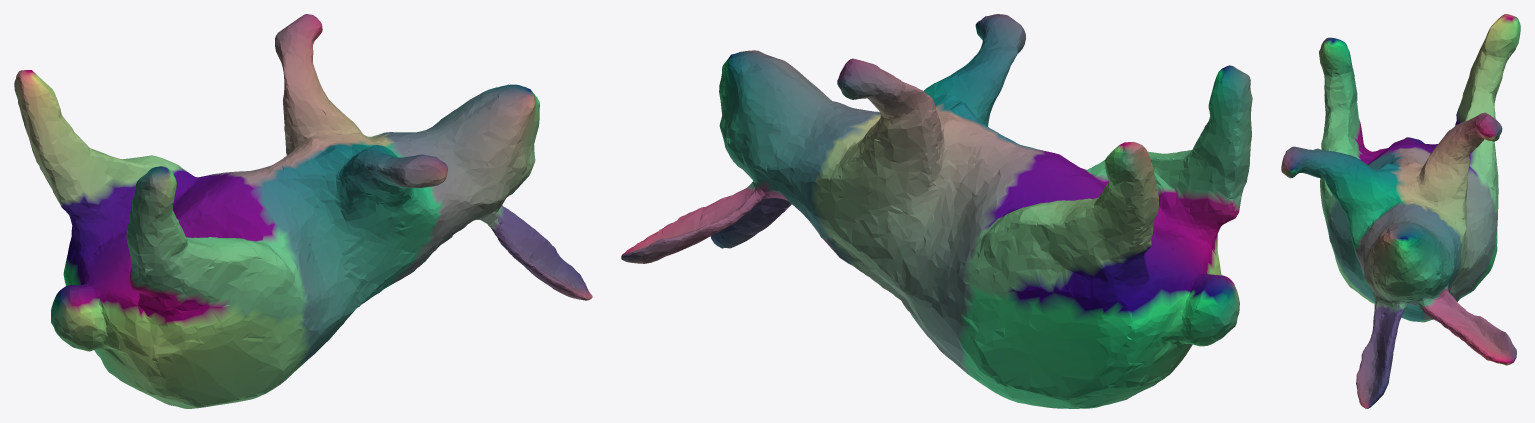
File: rabbit-20.off.obj
The picture shows the model from 3 angles, left to right: view 1: azimuth 30°, elevation 25°; view 2: azimuth 150°, elevation 25°; view 3: azimuth 270°, elevation 25°; orthographic projection. The views are drawn at different scales.
Size of the model in its own units: 1.46 by 0.8642 by 0.7637.
